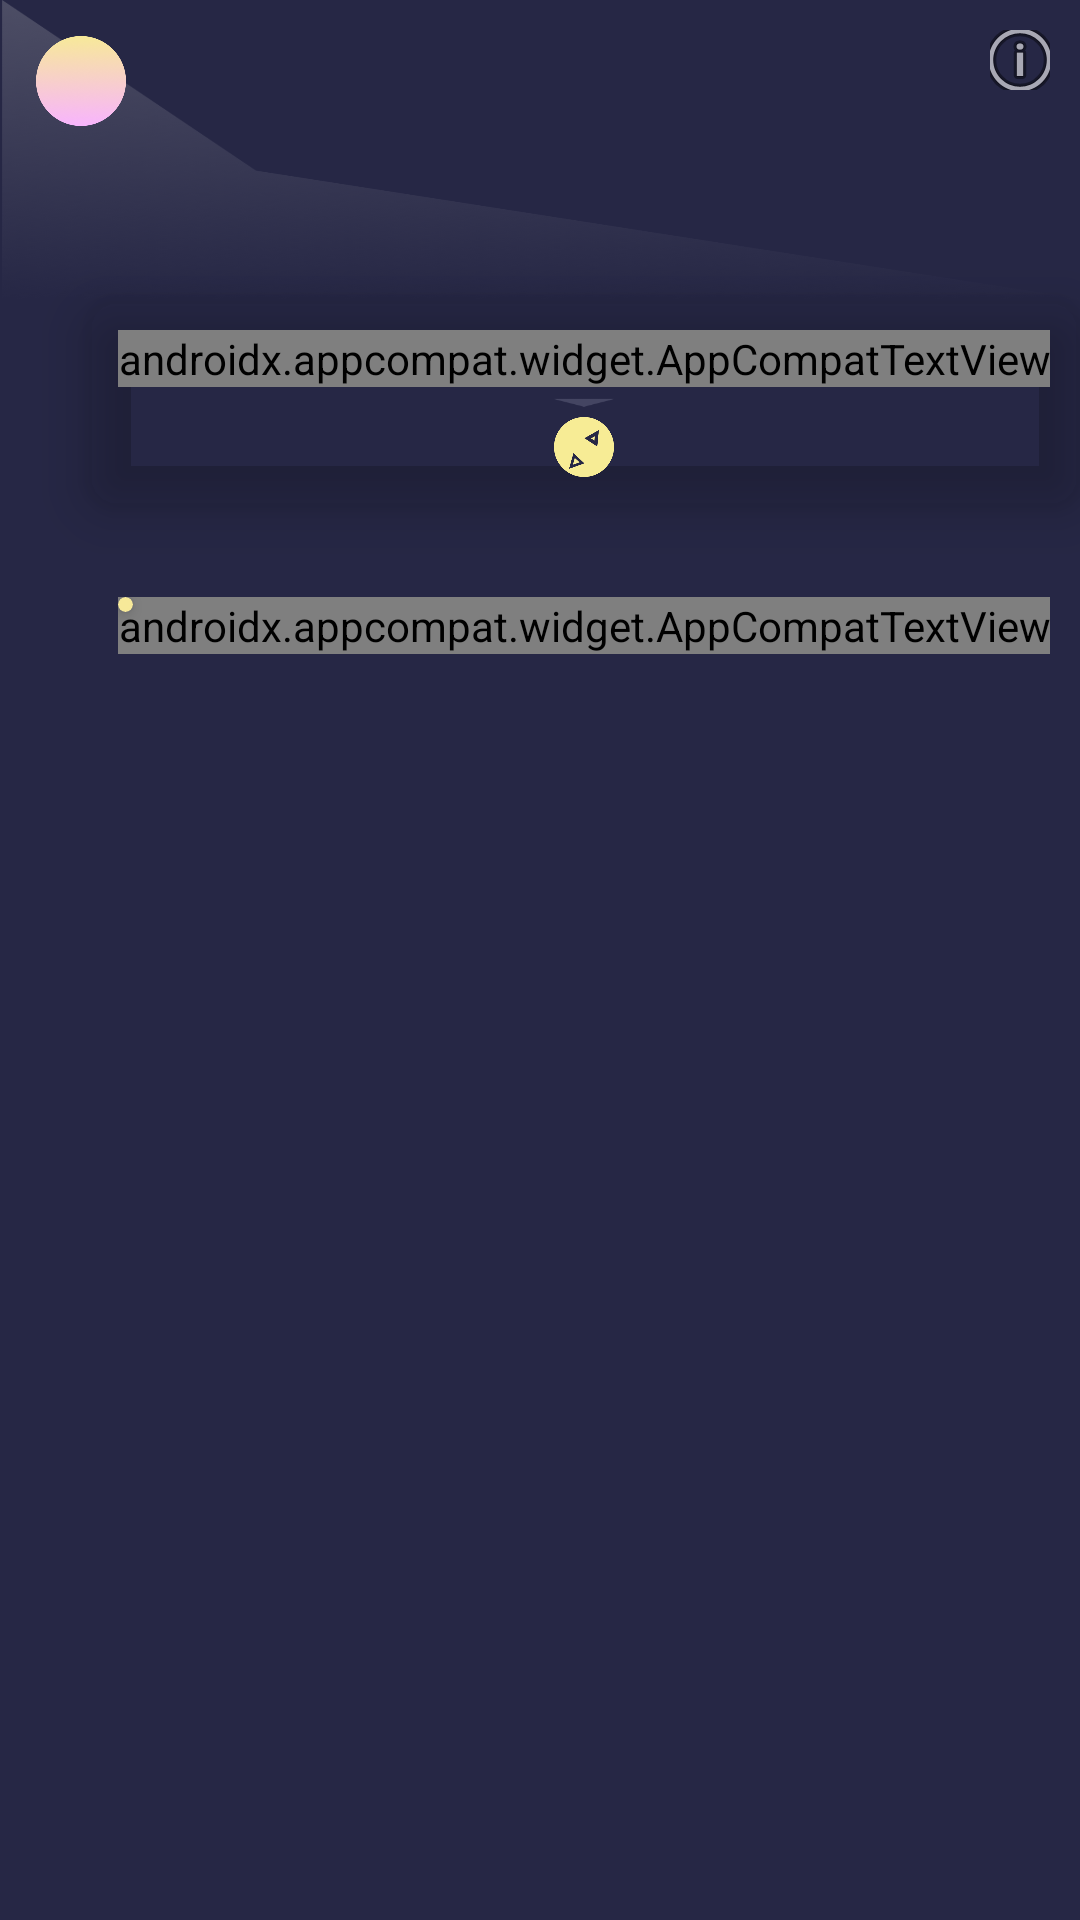

Screen size 1080px x 1920px. Icon name, then its center in pixels as [x,y]:
info details: [1020,60]
